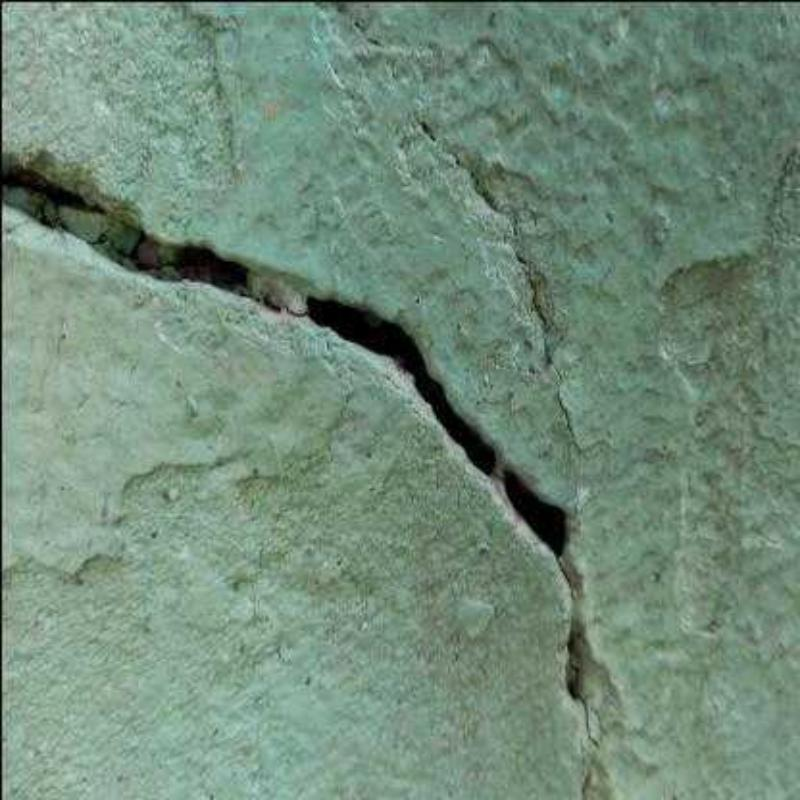crack: (0, 158, 604, 754), (513, 252, 579, 444), (421, 119, 519, 231)
